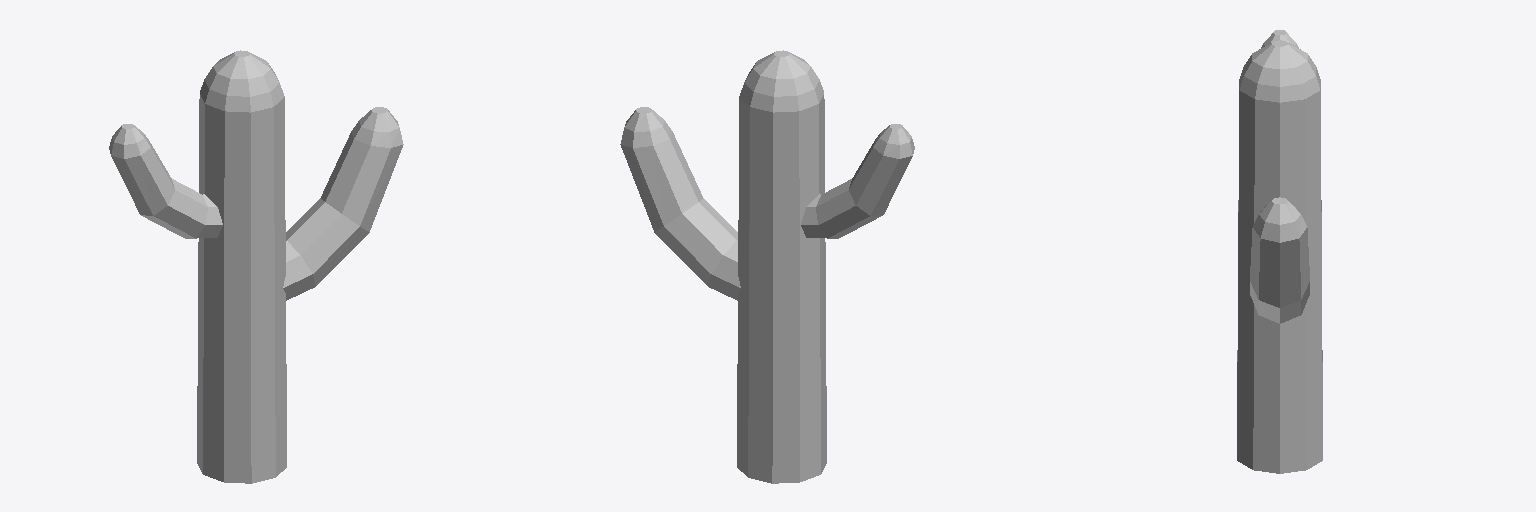
Rendered from cactus.obj.
3 renders of one model, left to right at view 1: azimuth 30°, elevation 25°; view 2: azimuth 150°, elevation 25°; view 3: azimuth 270°, elevation 25°, orthographic.
Parts seen in each view (by area): view 1: Cactus; view 2: Cactus; view 3: Cactus.
Part boxes in pixels (x1,y1,x2,y2): Cactus: (109, 50, 403, 483); Cactus: (620, 50, 914, 483); Cactus: (1237, 30, 1322, 473).
Size of the model in its own units: 22.11 by 30 by 5.71.